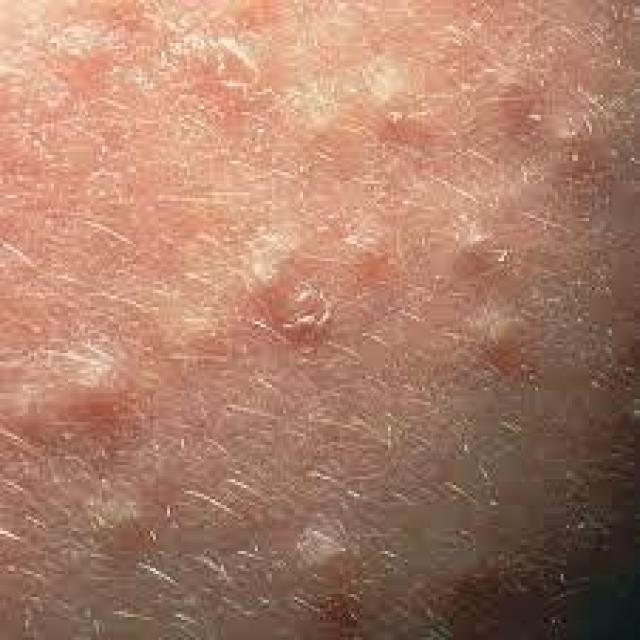papules: (232, 221, 306, 364)
